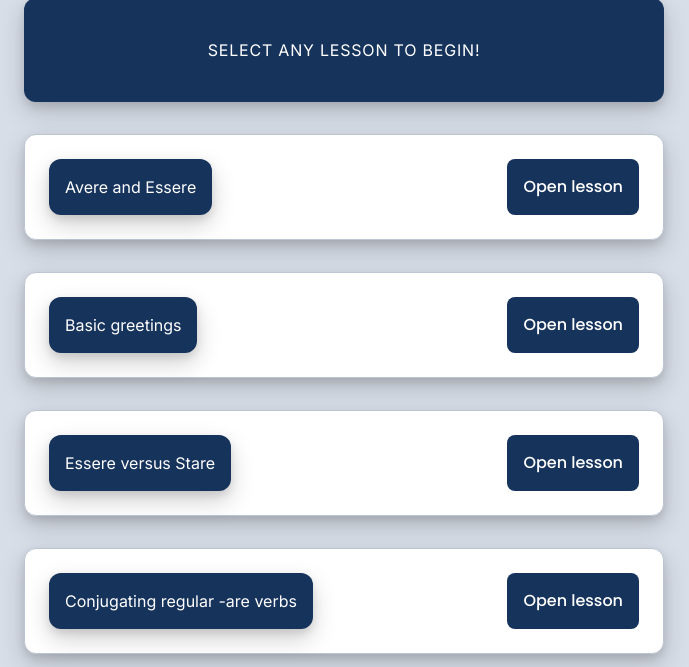
Test: Lesson › shows practice instructions right after the practice heading
Click the button with id "regular-are-verbs": (573, 601) [507,573,639,629]
(page scrolled)
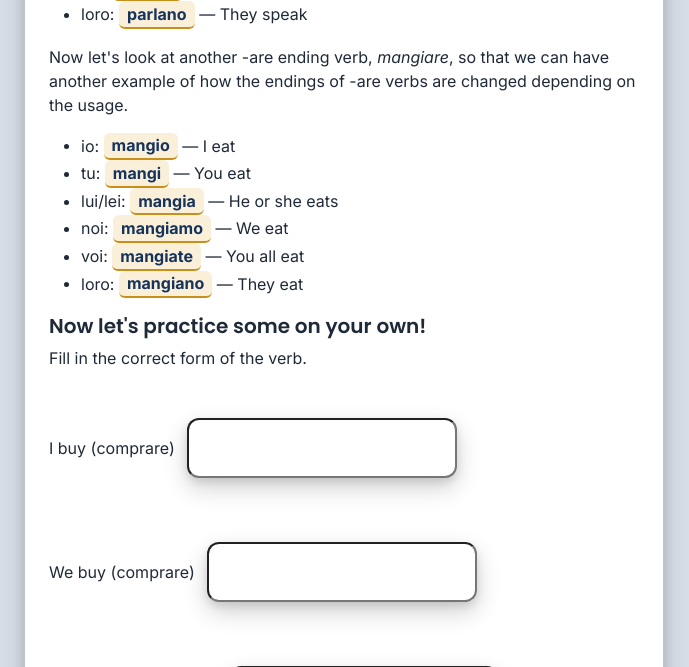
Check: the element showing "Fill in the correct form of the verb." is shown, box [49,348,307,368]
